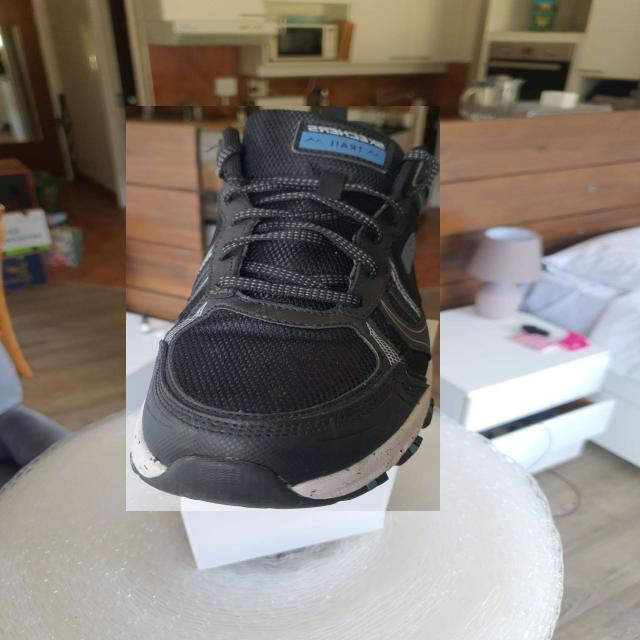shoes: (126, 106, 440, 511)
